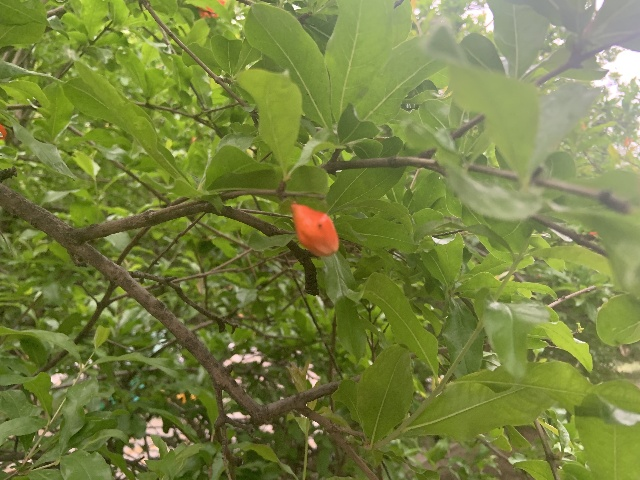bud: (291, 201, 339, 257)
